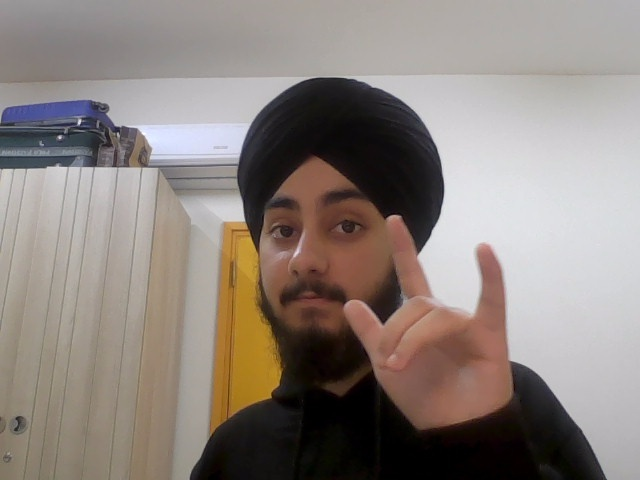ILoveYou: (341, 213, 521, 429)
